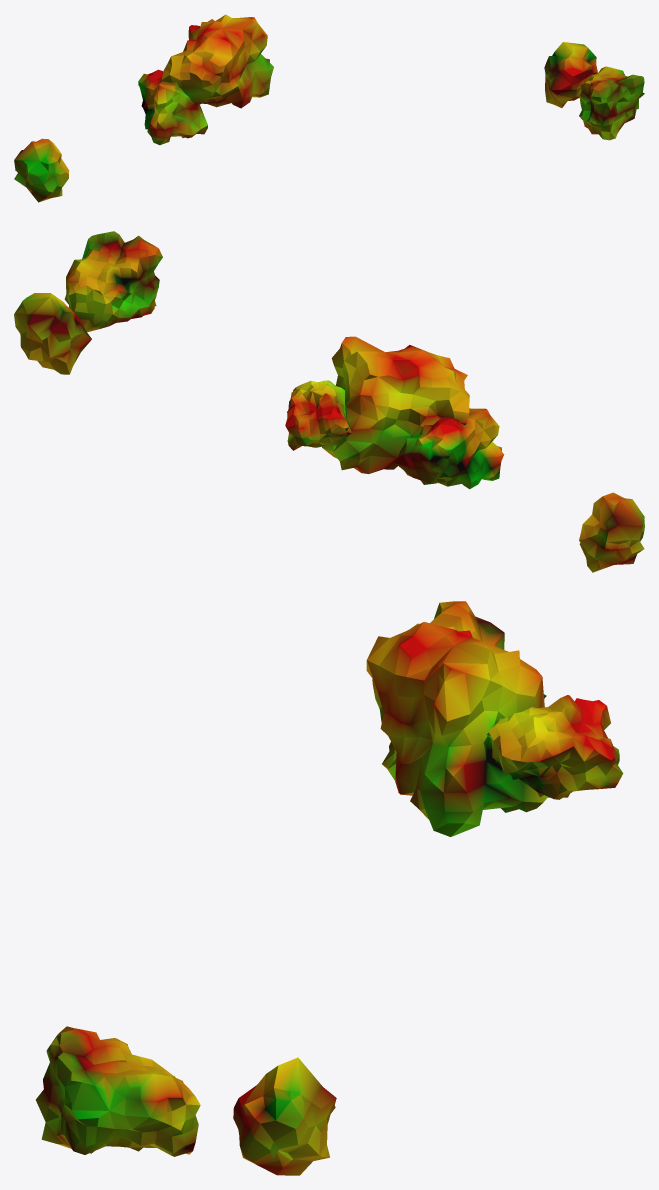
File: forest_environmental_rocks.glb
3 views of the same model, one above another, from view 1: azimuth 30°, elevation 25°; view 2: azimuth 150°, elevation 25°; view 3: azimuth 270°, elevation 25° (orthographic). The views are drawn at different scales.
Parts seen in each view (by area): view 1: Rock_2; view 2: Rock_2; view 3: Rock_2.
Part boxes in pixels (x1,y1,x2,y2): Rock_2: (14,14,644,202); Rock_2: (14,231,644,572); Rock_2: (36,601,623,1175).
Bounding box in the file's own units: 78.79 × 18.56 × 37.36.
